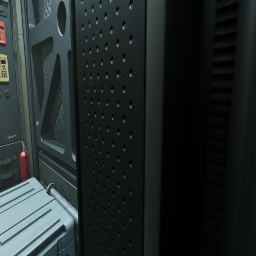EmergencyPhone ,: (0, 52, 9, 82)
FireAlarm ,: (0, 21, 6, 45)
FireExtinguisher ]: (20, 141, 31, 182)
